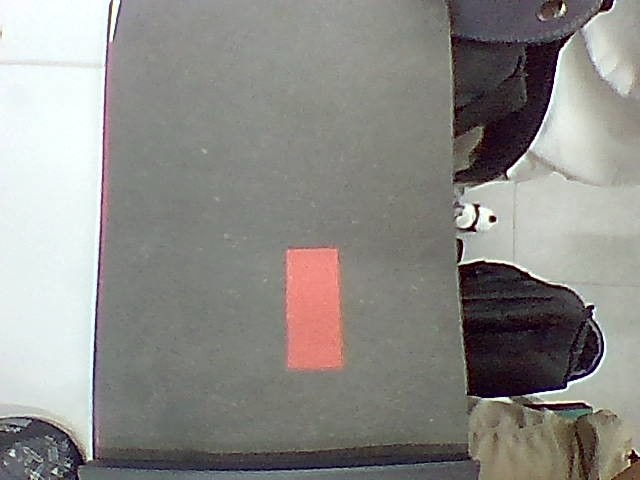card: (287, 250, 344, 370)
